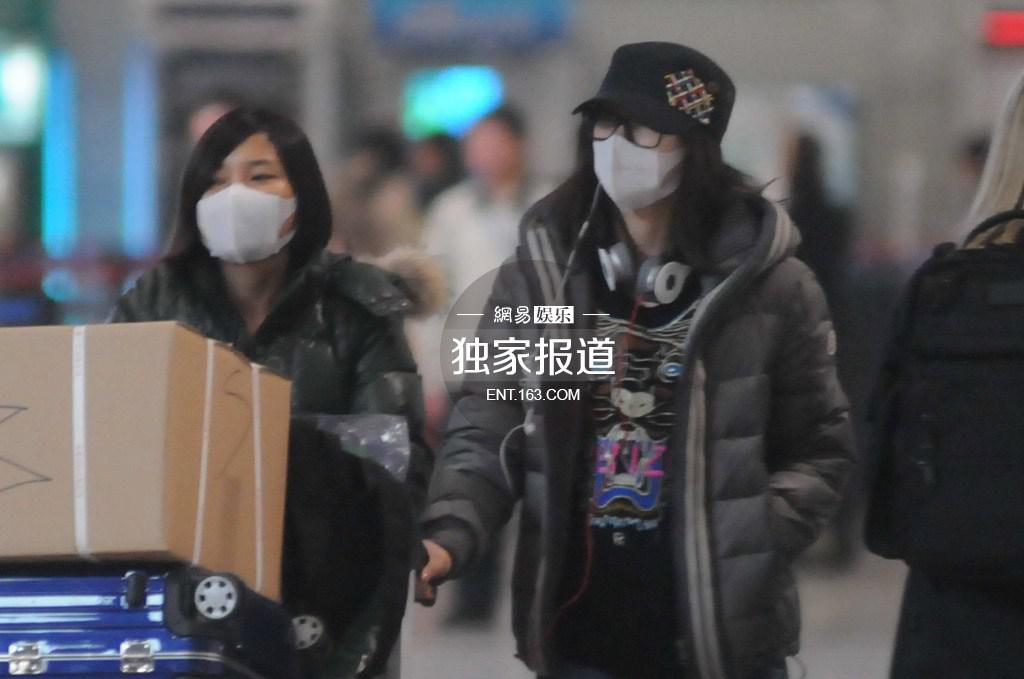OK: (192, 148, 310, 266), (587, 113, 686, 204)
